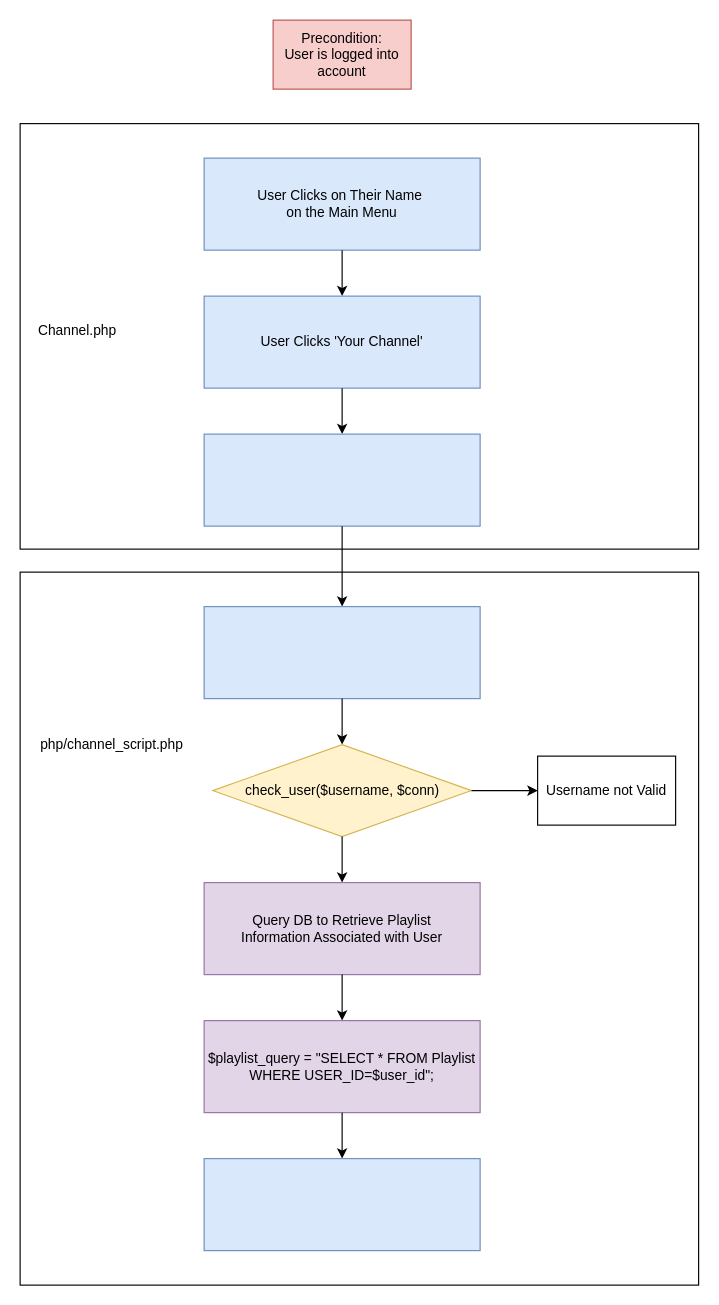
Image size: 719x1305. Some labels were removed from this diagram. Each missing label, with the centre of its shape:
Display User's Playlists with Information: (341,1204)
Get Variables ($user, $conn): (341,652)
User Clicks 'Playlists' Button: (341,479)
